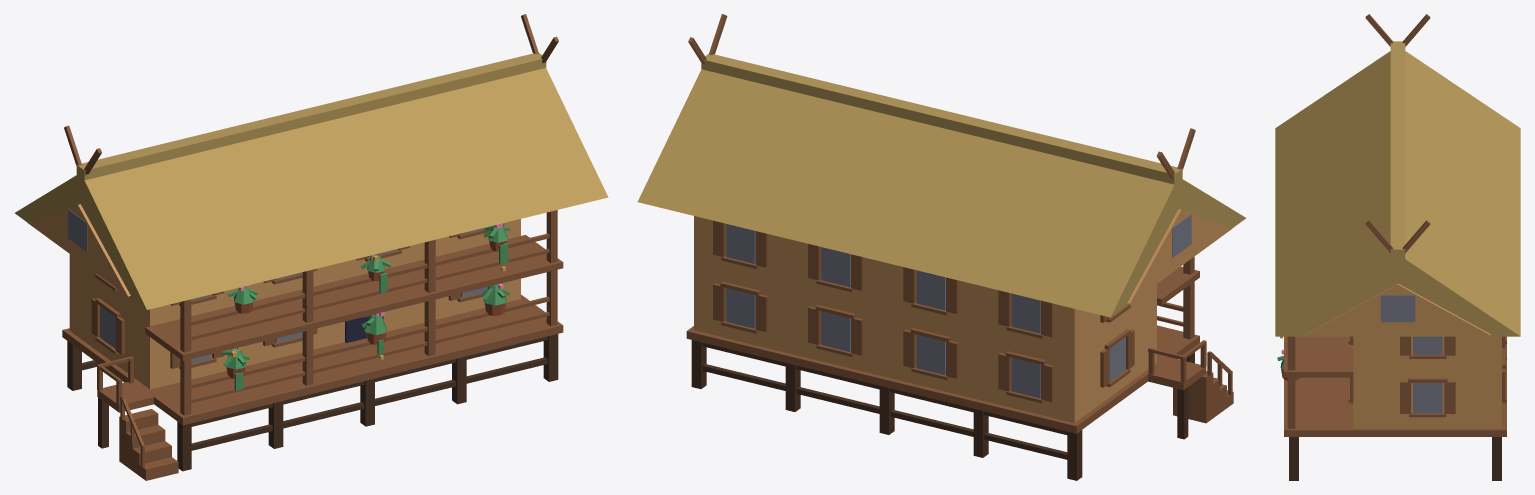
The model's file is house-2x1-2f-stilt-a.glb.
3 views of the same model, side by side, from view 1: azimuth 30°, elevation 25°; view 2: azimuth 150°, elevation 25°; view 3: azimuth 270°, elevation 25° (orthographic). The views are drawn at different scales.
Visible parts, largest first — view 1: house-2x1-2f-stilt-a; view 2: house-2x1-2f-stilt-a; view 3: house-2x1-2f-stilt-a.
Boxes of the visible parts, <box> form: house-2x1-2f-stilt-a: <box>15,14,608,480</box>; house-2x1-2f-stilt-a: <box>637,14,1245,480</box>; house-2x1-2f-stilt-a: <box>1275,14,1520,480</box>.
Bounding box in the file's own units: 2.02 × 1.24 × 0.99.
1 material, 1 textured.
